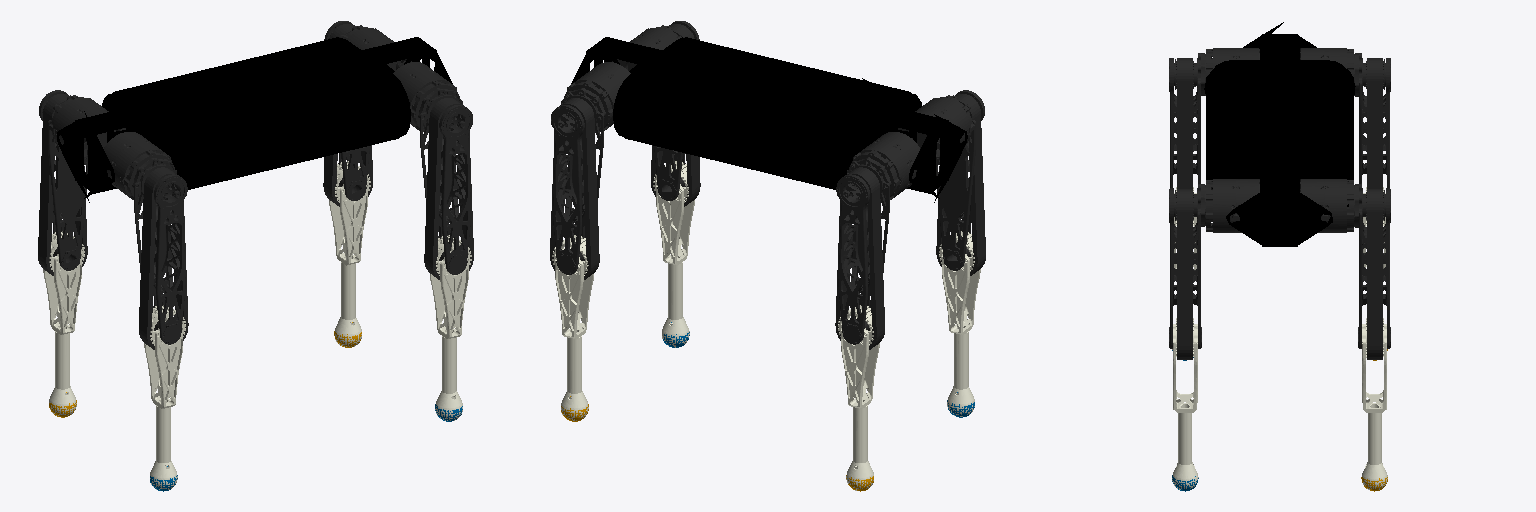
robot.urdf — Hound_description:
<?xml version="1.0" ?>
<!-- =================================================================================== -->
<!-- |    This document was autogenerated by xacro from robot.xacro                    | -->
<!-- |    EDITING THIS FILE BY HAND IS NOT RECOMMENDED                                 | -->
<!-- =================================================================================== -->
<robot name="Hound_description" xmlns:xacro="http://www.ros.org/wiki/xacro">
  <material name="black">
    <color rgba="0.0 0.0 0.0 1.0"/>
  </material>
  <material name="blue">
    <color rgba="0.0 0.0 0.8 1.0"/>
  </material>
  <material name="green">
    <color rgba="0.0 0.8 0.0 1.0"/>
  </material>
  <material name="grey">
    <color rgba="0.2 0.2 0.2 1.0"/>
  </material>
  <material name="silver">
    <color rgba="0.913725490196 0.913725490196 0.847058823529 1.0"/>
  </material>
  <material name="orange">
    <color rgba="1.0 0.423529411765 0.0392156862745 1.0"/>
  </material>
  <material name="brown">
    <color rgba="0.870588235294 0.811764705882 0.764705882353 1.0"/>
  </material>
  <material name="red">
    <color rgba="0.8 0.0 0.0 1.0"/>
  </material>
  <material name="white">
    <color rgba="1.0 1.0 1.0 1.0"/>
  </material>

  <link name="trunk">
    <visual>
      <origin rpy="0 0 0" xyz="0 0 0"/>
      <geometry>
        <mesh filename="package://hound_description/meshes/base__.dae" scale="1 1 1"/>
      </geometry>
      <material name="black"/>
    </visual>
    <collision>
      <origin rpy="0 0 0" xyz="0 0 0"/>
      <geometry>
	<!--<box size="0.562 0.335 0.14"/>-->
        <box size="0.562 0.185 0.08"/>
      </geometry>
    </collision>
    <inertial>
      <origin rpy="0 0 0" xyz="0.00013607 0.00001388 0.00185744"/>
      <mass value="17.66173773"/>
      <inertia ixx="0.20856455" ixy="-0.00072126" ixz="-0.00004529" iyy="0.80371419" iyz="0.00001535" izz="0.95938169"/>
    </inertial>
  </link>

  <joint name="FR_roll_joint" type="revolute">
    <origin rpy="0 0 0" xyz="0.349 -0.100 0.000"/>
    <parent link="trunk"/>
    <child link="FR_shoulder"/>
    <axis xyz="1 0 0"/>
    <dynamics rotor_inertia="0.01398664" damping="0" friction="0"/>
    <limit effort="200" lower="-1.48352986419518" upper="1.48352986419518" velocity="16.7"/>
  </joint>

  <link name="FR_shoulder">
    <visual>
      <origin rpy="0 0 0" xyz="0 0 0"/>
      <geometry>
        <mesh filename="package://hound_description/meshes/shoulder_mirror__.dae" scale="1 1 1"/>
      </geometry>
      <material name="grey"/>
    </visual>
    <collision>
      <origin rpy="1.57079632679 0 0" xyz="0 -0.0125 0"/>
      <geometry>
        <cylinder length="0.133" radius="0.0605"/>
      </geometry>
    </collision>
    <inertial>
      <origin rpy="0 0 0" xyz="-0.00426027 -0.01325422 0.00000918"/>
      <mass value="3.96168582"/>
      <inertia ixx="0.00932019" ixy="-0.00003601" ixz="-0.00000533" iyy="0.00773259" iyz="-0.00001700" izz="0.01043512"/>
    </inertial>
  </link>

  <joint name="FR_hip_joint" type="revolute">
    <origin rpy="0 0 0" xyz="0 -0.1135 0"/>
    <parent link="FR_shoulder"/>
    <child link="FR_thigh"/>
    <axis xyz="0 1 0"/>
    <dynamics rotor_inertia="0.05581304" damping="0" friction="0"/>
    <limit effort="200" lower="-6.28318530718" upper="6.28318530718" velocity="16.7"/>
  </joint>

  <link name="FR_thigh">
    <visual>
      <origin rpy="0 0 0" xyz="0 0 0"/>
      <geometry>
        <mesh filename="package://hound_description/meshes/thigh_mirror__.dae" scale="1 1 1"/>
      </geometry>
      <material name="grey"/>
    </visual>
    <collision>
      <origin rpy="0 0 0" xyz="0 0 -0.16395"/>
      <geometry>
        <box size="0.078 0.069 0.3279"/>
      </geometry>
    </collision>
    <inertial>
      <origin rpy="0 0 0" xyz="0.01353461 0.01879181 -0.09638993"/>
      <mass value="1.52408165"/>
      <inertia ixx="0.02365733" ixy="-0.00036775" ixz="-0.00293293" iyy="0.02323490" iyz="0.00261899" izz="0.00318143"/>
    </inertial>
  </link>

  <joint name="FR_knee_joint" type="revolute">
    <origin rpy="0 0 0" xyz="0 0 -0.3279"/>
    <parent link="FR_thigh"/>
    <child link="FR_calf"/>
    <axis xyz="0 1 0"/>
    <dynamics rotor_inertia="0.0561" damping="0" friction="0"/>
    <limit effort="400" lower="-2.7925268" upper="2.7925268" velocity="8.420868347"/>
  </joint>

  <link name="FR_calf">
    <visual>
      <origin rpy="0 0 0" xyz="0 0 0"/>
      <geometry>
        <mesh filename="package://hound_description/meshes/calf__.dae" scale="1 1 1"/>
      </geometry>
      <material name="silver"/>
    </visual>
    <collision>
      <origin rpy="0 0 0" xyz="0 0 -0.175"/>
      <geometry>
        <box size="0.032 0.032 0.35"/>
      </geometry>
    </collision>
    <inertial>
      <origin rpy="0 0 0" xyz="0.00000000 -0.00007139 -0.12613433"/>
      <mass value="0.68173107"/>
      <inertia ixx="0.01354125" ixy="-0.00000000" ixz="-0.00000058" iyy="0.01354008" iyz="-0.00000573" izz="0.00042390"/>
    </inertial>
  </link>

  <joint name="FR_foot_fixed" type="fixed">
    <origin rpy="0 0 0" xyz="0 0 -0.35"/>
    <parent link="FR_calf"/>
    <child link="FR_foot"/>
  </joint>

  <link name="FR_foot">
    <visual>
      <origin rpy="0 0 0" xyz="0 0 0"/>
      <geometry>
        <sphere radius="0.03"/>
      </geometry>
    </visual>
    <collision>
      <origin rpy="0 0 0" xyz="0 0 0"/>
      <geometry>
        <sphere radius="0.03"/>
      </geometry>
    </collision>
  </link>


  <joint name="FL_roll_joint" type="revolute">
    <origin rpy="0 0 0" xyz="0.349 0.100 0.000"/>
    <parent link="trunk"/>
    <child link="FL_shoulder"/>
    <axis xyz="1 0 0"/>
    <dynamics rotor_inertia="0.01398664" damping="0" friction="0"/>
    <limit effort="200" lower="-1.48352986419518" upper="1.48352986419518" velocity="16.7"/>
  </joint>

  <link name="FL_shoulder">
    <visual>
      <origin rpy="0 0 0" xyz="0 0 0"/>
      <geometry>
        <mesh filename="package://hound_description/meshes/shoulder__.dae" scale="1 1 1"/>
      </geometry>
      <material name="grey"/>
    </visual>
    <collision>
      <origin rpy="1.57079632679 0 0" xyz="0 0.0125 0"/>
      <geometry>
        <cylinder length="0.133" radius="0.0605"/>
      </geometry>
    </collision>
    <inertial>
      <origin rpy="0 0 0" xyz="-0.00426027 0.01325422 0.00000918"/>
      <mass value="3.96168582"/>
      <inertia ixx="0.00932019" ixy="0.00003601" ixz="-0.00000533" iyy="0.00773259" iyz="0.00001700" izz="0.01043512"/>
    </inertial>
  </link>

  <joint name="FL_hip_joint" type="revolute">
    <origin rpy="0 0 0" xyz="0 0.1135 0"/>
    <parent link="FL_shoulder"/>
    <child link="FL_thigh"/>
    <axis xyz="0 1 0"/>
    <dynamics rotor_inertia="0.05581304" damping="0" friction="0"/>
    <limit effort="200" lower="-6.28318530718" upper="6.28318530718" velocity="16.7"/>
  </joint>

  <link name="FL_thigh">
    <visual>
      <origin rpy="0 0 0" xyz="0 0 0"/>
      <geometry>
        <mesh filename="package://hound_description/meshes/thigh__.dae" scale="1 1 1"/>
      </geometry>
      <material name="grey"/>
    </visual>
    <collision>
      <origin rpy="0 0 0" xyz="0 0 -0.16395"/>
      <geometry>
        <box size="0.078 0.069 0.3279"/>
      </geometry>
    </collision>
    <inertial>
      <origin rpy="0 0 0" xyz="0.01353461 -0.01879181 -0.09638993"/>
      <mass value="1.52408165"/>
      <inertia ixx="0.02365733" ixy="0.00036775" ixz="-0.00293293" iyy="0.02323490" iyz="-0.00261899" izz="0.00318143"/>
    </inertial>
  </link>

  <joint name="FL_knee_joint" type="revolute">
    <origin rpy="0 0 0" xyz="0 0 -0.3279"/>
    <parent link="FL_thigh"/>
    <child link="FL_calf"/>
    <axis xyz="0 1 0"/>
    <dynamics rotor_inertia="0.0561" damping="0" friction="0"/>
    <limit effort="400" lower="-2.7925268" upper="2.7925268" velocity="8.420868347"/>
  </joint>

  <link name="FL_calf">
    <visual>
      <origin rpy="0 0 0" xyz="0 0 0"/>
      <geometry>
        <mesh filename="package://hound_description/meshes/calf__.dae" scale="1 1 1"/>
      </geometry>
      <material name="silver"/>
    </visual>
    <collision>
      <origin rpy="0 0 0" xyz="0 0 -0.175"/>
      <geometry>
        <box size="0.032 0.032 0.35"/>
      </geometry>
    </collision>
    <inertial>
      <origin rpy="0 0 0" xyz="0.00000000 0.00007139 -0.12613433"/>
      <mass value="0.68173107"/>
      <inertia ixx="0.01354125" ixy="0.00000000" ixz="-0.00000058" iyy="0.01354008" iyz="0.00000573" izz="0.00042390"/>
    </inertial>
  </link>

  <joint name="FL_foot_fixed" type="fixed">
    <origin rpy="0 0 0" xyz="0 0 -0.35"/>
    <parent link="FL_calf"/>
    <child link="FL_foot"/>
  </joint>

  <link name="FL_foot">
    <visual>
      <origin rpy="0 0 0" xyz="0 0 0"/>
      <geometry>
        <sphere radius="0.03"/>
      </geometry>
    </visual>
    <collision>
      <origin rpy="0 0 0" xyz="0 0 0"/>
      <geometry>
        <sphere radius="0.03"/>
      </geometry>
    </collision>
  </link>


  <joint name="RR_roll_joint" type="revolute">
    <origin rpy="0 0 0" xyz="-0.349 -0.100 0.000"/>
    <parent link="trunk"/>
    <child link="RR_shoulder"/>
    <axis xyz="1 0 0"/>
    <dynamics rotor_inertia="0.01398664" damping="0" friction="0"/>
    <limit effort="200" lower="-1.48352986419518" upper="1.48352986419518" velocity="16.7"/>
  </joint>

  <link name="RR_shoulder">
    <visual>
      <origin rpy="0 0 0" xyz="0 0 0"/>
      <geometry>
        <mesh filename="package://hound_description/meshes/shoulder_mirror__.dae" scale="1 1 1"/>
      </geometry>
      <material name="grey"/>
    </visual>
    <collision>
      <origin rpy="1.57079632679 0 0" xyz="0 -0.0125 0"/>
      <geometry>
        <cylinder length="0.133" radius="0.0605"/>
      </geometry>
    </collision>
    <inertial>
      <origin rpy="0 0 0" xyz="-0.00426027 -0.01325422 0.00000918"/>
      <mass value="3.96168582"/>
      <inertia ixx="0.00932019" ixy="-0.00003601" ixz="-0.00000533" iyy="0.00773259" iyz="-0.00001700" izz="0.01043512"/>
    </inertial>
  </link>

  <joint name="RR_hip_joint" type="revolute">
    <origin rpy="0 0 0" xyz="0 -0.1135 0"/>
    <parent link="RR_shoulder"/>
    <child link="RR_thigh"/>
    <axis xyz="0 1 0"/>
    <dynamics rotor_inertia="0.05581304" damping="0" friction="0"/>
    <limit effort="200" lower="-6.28318530718" upper="6.28318530718" velocity="16.7"/>
  </joint>

  <link name="RR_thigh">
    <visual>
      <origin rpy="0 0 0" xyz="0 0 0"/>
      <geometry>
        <mesh filename="package://hound_description/meshes/thigh_mirror__.dae" scale="1 1 1"/>
      </geometry>
      <material name="grey"/>
    </visual>
    <collision>
      <origin rpy="0 0 0" xyz="0 0 -0.16395"/>
      <geometry>
        <box size="0.078 0.069 0.3279"/>
      </geometry>
    </collision>
    <inertial>
      <origin rpy="0 0 0" xyz="0.01353461 0.01879181 -0.09638993"/>
      <mass value="1.52408165"/>
      <inertia ixx="0.02365733" ixy="-0.00036775" ixz="-0.00293293" iyy="0.02323490" iyz="0.00261899" izz="0.00318143"/>
    </inertial>
  </link>

  <joint name="RR_knee_joint" type="revolute">
    <origin rpy="0 0 0" xyz="0 0 -0.3279"/>
    <parent link="RR_thigh"/>
    <child link="RR_calf"/>
    <axis xyz="0 1 0"/>
    <dynamics rotor_inertia="0.0561" damping="0" friction="0"/>
    <limit effort="400" lower="-2.7925268" upper="2.7925268" velocity="8.420868347"/>
  </joint>

  <link name="RR_calf">
    <visual>
      <origin rpy="0 0 0" xyz="0 0 0"/>
      <geometry>
        <mesh filename="package://hound_description/meshes/calf__.dae" scale="1 1 1"/>
      </geometry>
      <material name="silver"/>
    </visual>
    <collision>
      <origin rpy="0 0 0" xyz="0 0 -0.175"/>
      <geometry>
        <box size="0.032 0.032 0.35"/>
      </geometry>
    </collision>
    <inertial>
      <origin rpy="0 0 0" xyz="0.00000000 -0.00007139 -0.12613433"/>
      <mass value="0.68173107"/>
      <inertia ixx="0.01354125" ixy="-0.00000000" ixz="-0.00000058" iyy="0.01354008" iyz="-0.00000573" izz="0.00042390"/>
    </inertial>
  </link>

  <joint name="RR_foot_fixed" type="fixed">
    <origin rpy="0 0 0" xyz="0 0 -0.35"/>
    <parent link="RR_calf"/>
    <child link="RR_foot"/>
  </joint>

  <link name="RR_foot">
    <visual>
      <origin rpy="0 0 0" xyz="0 0 0"/>
      <geometry>
        <sphere radius="0.03"/>
      </geometry>
    </visual>
    <collision>
      <origin rpy="0 0 0" xyz="0 0 0"/>
      <geometry>
        <sphere radius="0.03"/>
      </geometry>
    </collision>
  </link>


  <joint name="RL_roll_joint" type="revolute">
    <origin rpy="0 0 0" xyz="-0.349 0.100 0.000"/>
    <parent link="trunk"/>
    <child link="RL_shoulder"/>
    <axis xyz="1 0 0"/>
    <dynamics rotor_inertia="0.01398664" damping="0" friction="0"/>
    <limit effort="200" lower="-1.48352986419518" upper="1.48352986419518" velocity="16.7"/>
  </joint>

  <link name="RL_shoulder">
    <visual>
      <origin rpy="0 0 0" xyz="0 0 0"/>
      <geometry>
        <mesh filename="package://hound_description/meshes/shoulder__.dae" scale="1 1 1"/>
      </geometry>
      <material name="grey"/>
    </visual>
    <collision>
      <origin rpy="1.57079632679 0 0" xyz="0 0.0125 0"/>
      <geometry>
        <cylinder length="0.133" radius="0.0605"/>
      </geometry>
    </collision>
    <inertial>
      <origin rpy="0 0 0" xyz="-0.00426027 0.01325422 0.00000918"/>
      <mass value="3.96168582"/>
      <inertia ixx="0.00932019" ixy="0.00003601" ixz="-0.00000533" iyy="0.00773259" iyz="0.00001700" izz="0.01043512"/>
    </inertial>
  </link>

  <joint name="RL_hip_joint" type="revolute">
    <origin rpy="0 0 0" xyz="0 0.1135 0"/>
    <parent link="RL_shoulder"/>
    <child link="RL_thigh"/>
    <axis xyz="0 1 0"/>
    <dynamics rotor_inertia="0.05581304" damping="0" friction="0"/>
    <limit effort="200" lower="-6.28318530718" upper="6.28318530718" velocity="16.7"/>
  </joint>

  <link name="RL_thigh">
    <visual>
      <origin rpy="0 0 0" xyz="0 0 0"/>
      <geometry>
        <mesh filename="package://hound_description/meshes/thigh__.dae" scale="1 1 1"/>
      </geometry>
      <material name="grey"/>
    </visual>
    <collision>
      <origin rpy="0 0 0" xyz="0 0 -0.16395"/>
      <geometry>
        <box size="0.078 0.069 0.3279"/>
      </geometry>
    </collision>
    <inertial>
      <origin rpy="0 0 0" xyz="0.01353461 -0.01879181 -0.09638993"/>
      <mass value="1.52408165"/>
      <inertia ixx="0.02365733" ixy="0.00036775" ixz="-0.00293293" iyy="0.02323490" iyz="-0.00261899" izz="0.00318143"/>
    </inertial>
  </link>

  <joint name="RL_knee_joint" type="revolute">
    <origin rpy="0 0 0" xyz="0 0 -0.3279"/>
    <parent link="RL_thigh"/>
    <child link="RL_calf"/>
    <axis xyz="0 1 0"/>
    <dynamics rotor_inertia="0.0561" damping="0" friction="0"/>
    <limit effort="400" lower="-2.7925268" upper="2.7925268" velocity="8.420868347"/>
  </joint>

  <link name="RL_calf">
    <visual>
      <origin rpy="0 0 0" xyz="0 0 0"/>
      <geometry>
        <mesh filename="package://hound_description/meshes/calf__.dae" scale="1 1 1"/>
      </geometry>
      <material name="silver"/>
    </visual>
    <collision>
      <origin rpy="0 0 0" xyz="0 0 -0.175"/>
      <geometry>
        <box size="0.032 0.032 0.35"/>
      </geometry>
    </collision>
    <inertial>
      <origin rpy="0 0 0" xyz="0.00000000 0.00007139 -0.12613433"/>
      <mass value="0.68173107"/>
      <inertia ixx="0.01354125" ixy="0.00000000" ixz="-0.00000058" iyy="0.01354008" iyz="0.00000573" izz="0.00042390"/>
    </inertial>
  </link>

  <joint name="RL_foot_fixed" type="fixed">
    <origin rpy="0 0 0" xyz="0 0 -0.35"/>
    <parent link="RL_calf"/>
    <child link="RL_foot"/>
  </joint>

  <link name="RL_foot">
    <visual>
      <origin rpy="0 0 0" xyz="0 0 0"/>
      <geometry>
        <sphere radius="0.03"/>
      </geometry>
    </visual>
    <collision>
      <origin rpy="0 0 0" xyz="0 0 0"/>
      <geometry>
        <sphere radius="0.03"/>
      </geometry>
    </collision>
  </link>
</robot>

--- Facts derived from the render (not from the file) ---
The picture shows the robot from 3 angles, left to right: view 1: azimuth 30°, elevation 25°; view 2: azimuth 150°, elevation 25°; view 3: azimuth 270°, elevation 25°; orthographic projection.
Robot: Hound_description — 17 links, 16 joints (12 revolute, 4 fixed); root link trunk; default pose: every joint at zero.
Visible links, largest first — view 1: trunk, RR_thigh, FR_thigh, RL_thigh, FR_calf, RR_calf, FL_calf, RL_calf, FL_thigh, RR_shoulder, FR_shoulder, RL_shoulder (+1 smaller); view 2: trunk, RL_thigh, FL_thigh, RR_thigh, FL_calf, RL_calf, RR_calf, FR_calf, FR_thigh, RL_shoulder, FL_shoulder, RR_shoulder (+1 smaller); view 3: trunk, FL_thigh, FR_thigh, RL_thigh, RR_thigh, FR_shoulder, FL_shoulder, FR_calf, FL_calf, RL_shoulder, RR_shoulder.
Boxes of the visible links, x1,y1,x2,y2 form: trunk: (57, 37, 452, 202); RR_thigh: (134, 158, 188, 349); FR_thigh: (420, 89, 473, 279); RL_thigh: (38, 90, 87, 275); FR_calf: (430, 235, 471, 420); RR_calf: (144, 305, 185, 489); FL_calf: (329, 161, 370, 346); RL_calf: (43, 231, 84, 415); FL_thigh: (323, 21, 372, 206); RR_shoulder: (104, 132, 176, 202); FR_shoulder: (393, 62, 462, 132); RL_shoulder: (49, 95, 125, 166); trunk: (571, 37, 967, 202); RL_thigh: (835, 158, 889, 349); FL_thigh: (550, 89, 603, 279); RR_thigh: (936, 90, 985, 275); FL_calf: (552, 235, 593, 420); RL_calf: (838, 305, 879, 490); RR_calf: (939, 231, 980, 416); FR_calf: (653, 161, 694, 347); FR_thigh: (651, 21, 700, 206); RL_shoulder: (847, 132, 919, 202); FL_shoulder: (561, 62, 630, 132); RR_shoulder: (898, 95, 974, 166); trunk: (1204, 22, 1355, 246); FL_thigh: (1358, 183, 1390, 359); FR_thigh: (1169, 184, 1201, 359); RL_thigh: (1359, 53, 1390, 188); RR_thigh: (1169, 53, 1200, 188); FR_shoulder: (1201, 179, 1259, 232); FL_shoulder: (1300, 179, 1358, 232); FR_calf: (1172, 318, 1198, 489); FL_calf: (1362, 318, 1387, 489); RL_shoulder: (1300, 48, 1358, 96); RR_shoulder: (1201, 48, 1259, 95).
Bounding box of the posed robot: 0.838 × 0.5 × 0.8136 m (x, y, z).
Meshes: 6 distinct files referenced, 13 mesh visuals loaded (6 Collada DAE).